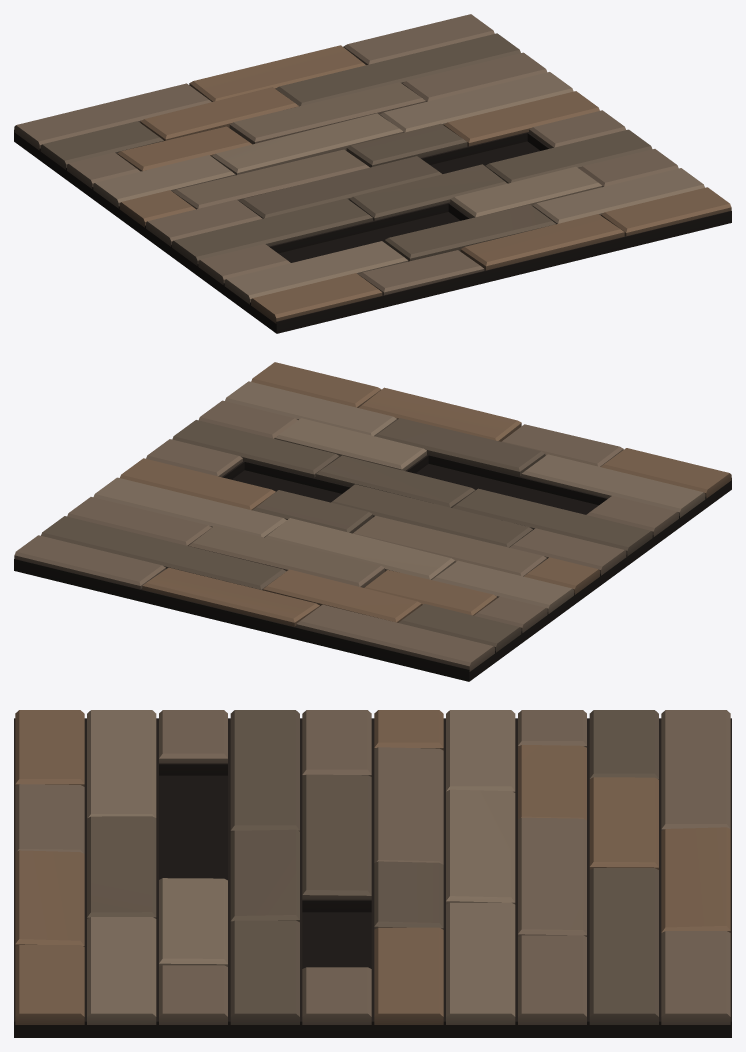
File: floor_planks_rotten_large_D.glb
The picture shows the model from 3 angles, top to bottom: view 1: azimuth 30°, elevation 25°; view 2: azimuth 150°, elevation 25°; view 3: azimuth 270°, elevation 25°; orthographic projection. The views are drawn at different scales.
Parts seen in each view (by area): view 1: Item; view 2: Item; view 3: Item.
Part boxes in pixels (x1,y1,x2,y2): Item: (14,14,731,333); Item: (14,362,731,681); Item: (14,710,731,1037).
Bounding box in the file's own units: 4 × 0.1653 × 4.
Materials: 1 (1 with a texture image).
